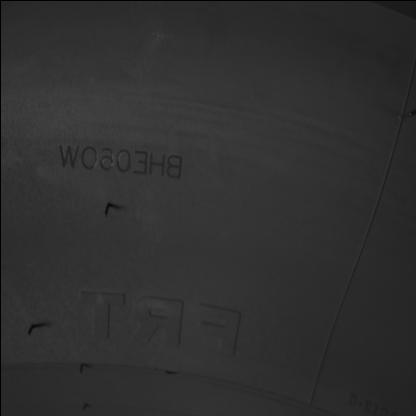ocr: (57, 142, 184, 181)
